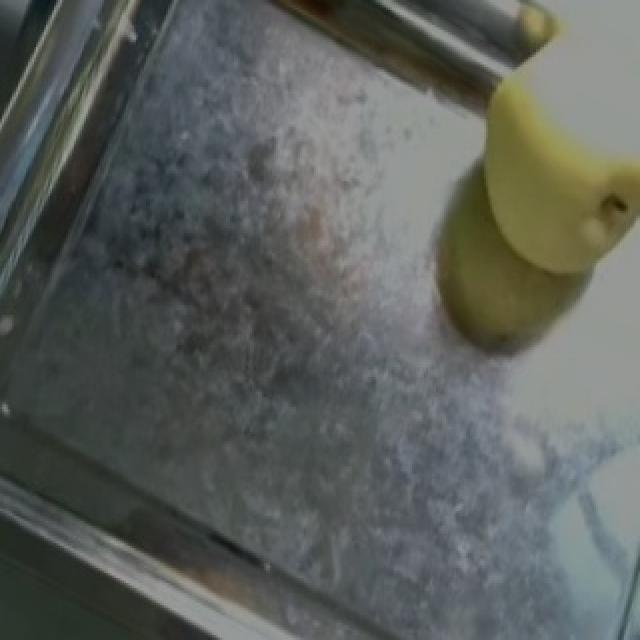Fruit: (436, 10, 640, 308)
